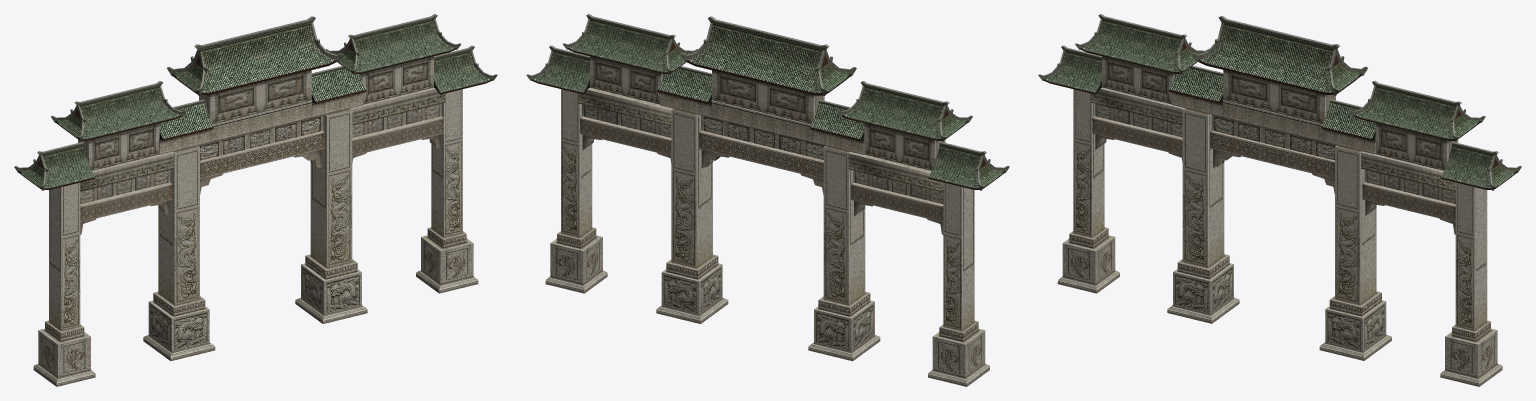
The model's file is c1-034-stonedoor.fbx.
3 views of the same model, side by side, from view 1: azimuth 30°, elevation 25°; view 2: azimuth 150°, elevation 25°; view 3: azimuth 330°, elevation 25° (orthographic).
Parts seen in each view (by area): view 1: Object03; view 2: Object03; view 3: Object03.
Boxes of the visible parts, left/top/right/bottom form: Object03: left=14, top=14, right=497, bottom=386; Object03: left=526, top=14, right=1009, bottom=386; Object03: left=1038, top=14, right=1521, bottom=386.
Bounding box in the file's own units: 29.7 × 18.41 × 3.51.
